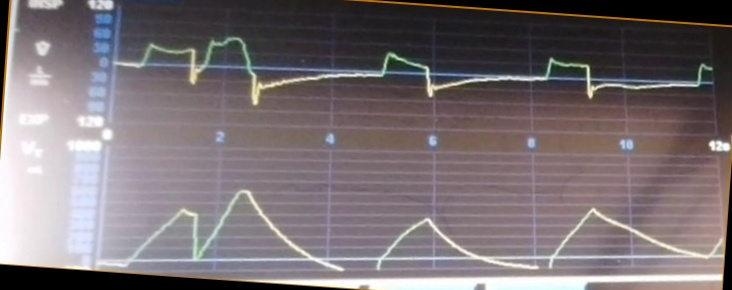Double_Triggering Flow: (121, 30, 713, 122)
Double_Triggering Volume: (110, 171, 722, 271)
